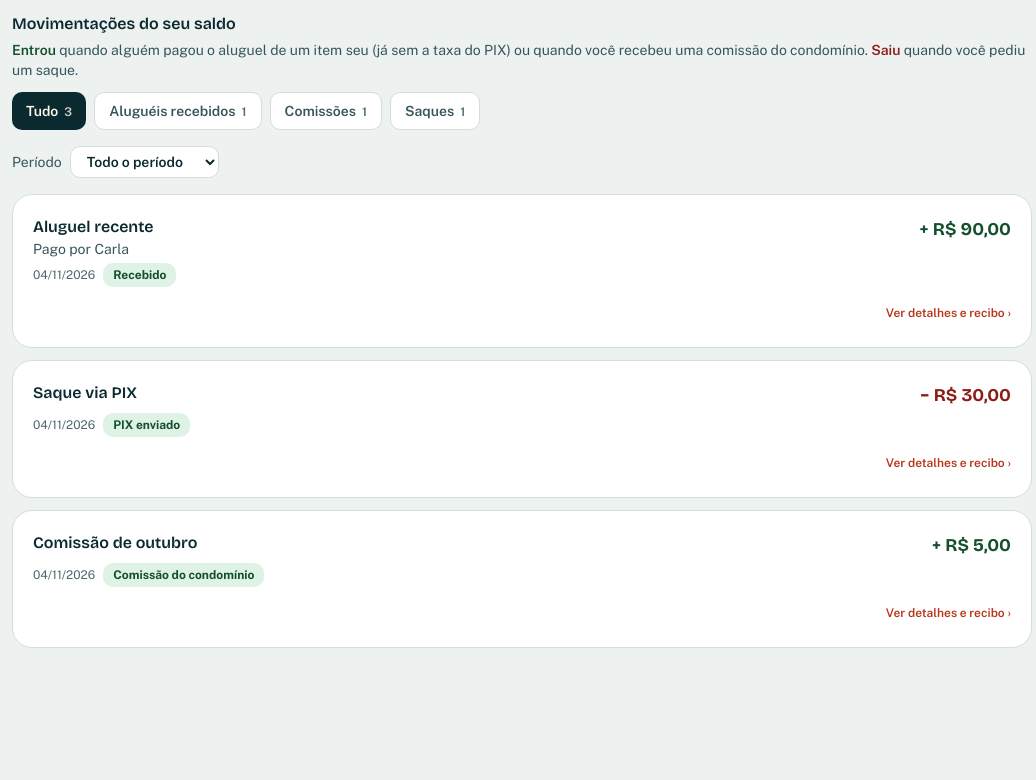
Test: ListaExtrato: filtros › mostra só o tipo escolhido e a soma do que está na tela
Check: the text "Aluguel recente" is shown, box [33,215,154,239]
Check: the text "Saque via PIX" is shown, box [33,381,137,405]
Click the button "Saques1" at (435, 111), box [390,92,480,130]
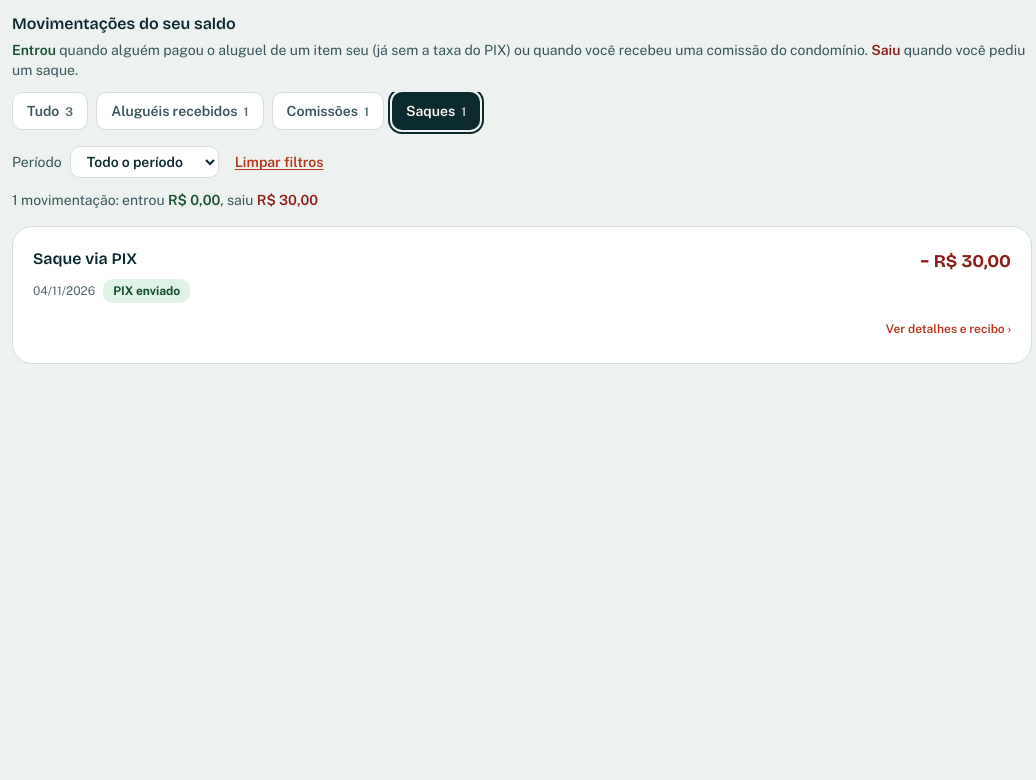
Check: the text "Saque via PIX" is shown, box [33,247,137,271]
Check: the text "Aluguel recente" is gone
Check: the text "1 movimentação: entrou R$ 0,00, saiu R$ 30,00" is shown, box [12,192,318,208]
